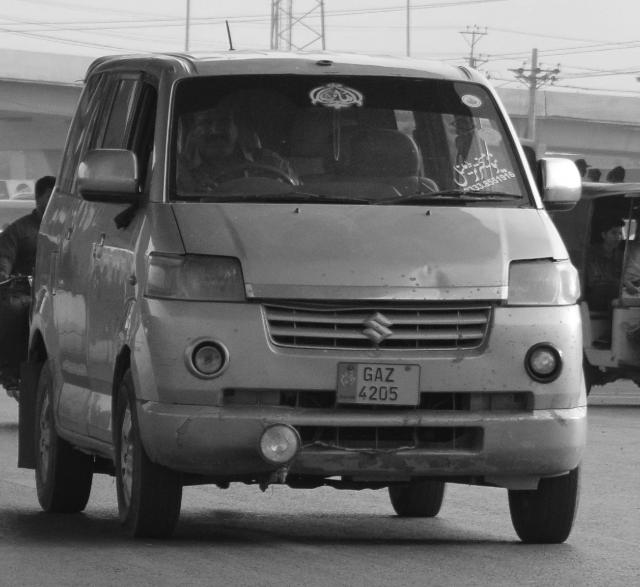Number: (360, 365, 402, 401)
